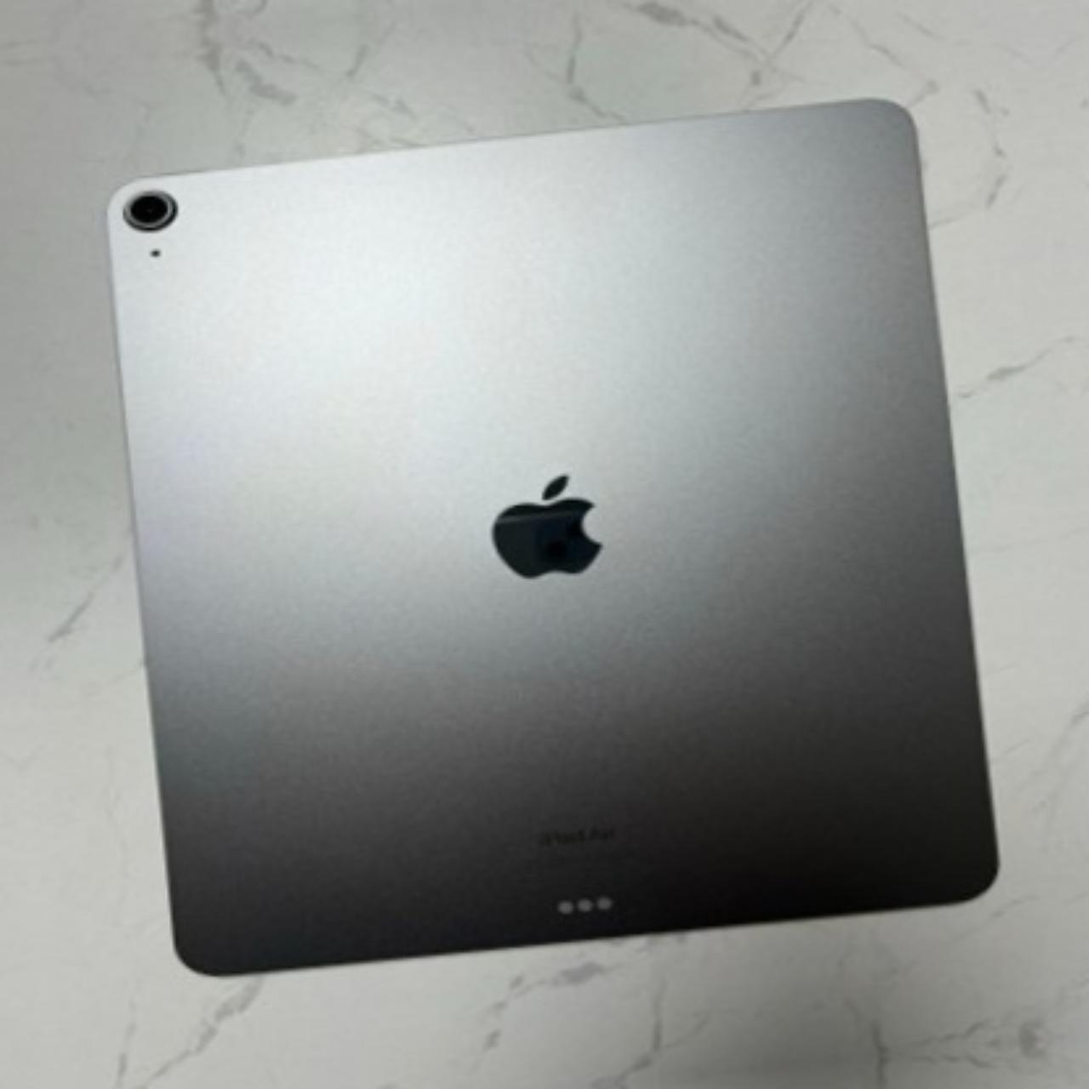Tablet_PC: (79, 81, 1015, 1005)
